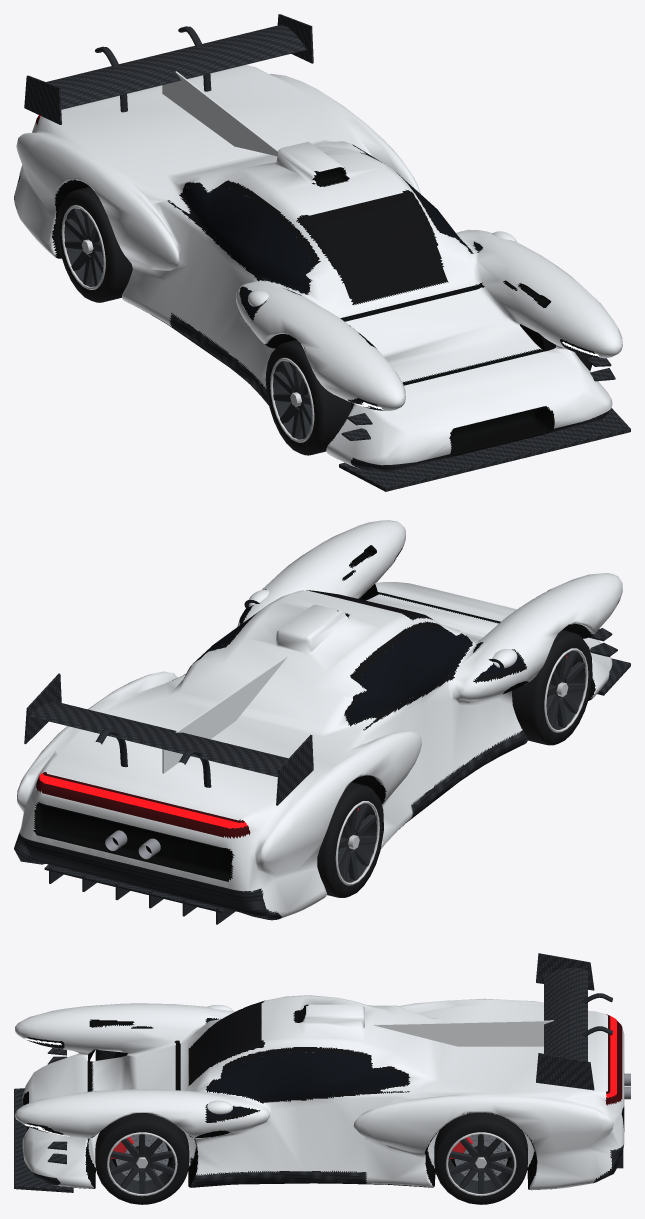
The model's file is optimized_gt_racecar_v4_LOD1.glb.
3 renders of one model, top to bottom at view 1: azimuth 30°, elevation 25°; view 2: azimuth 150°, elevation 25°; view 3: azimuth 270°, elevation 25°, orthographic. The views are drawn at different scales.
Visible parts, largest first — view 1: Body_Paint, Window_Trim, GT_Rear_Wing, Body_Glass, Intakes_And_Vents, Front_Canard_R, Wheel_FR_Tyre_Mesh, Wheel_RR_Tyre_Mesh, Shark_Fin, Body_Carbon, Wheel_RR_Rim_Mesh, Wheel_FR_Rim_Mesh (+2 smaller); view 2: Body_Paint, GT_Rear_Wing, Intakes_And_Vents, Body_Carbon, Body_Glass, Wheel_FR_Tyre_Mesh, Taillight_Lenses, Wheel_RR_Tyre_Mesh, Window_Trim, Front_Canard_R, Shark_Fin, Wheel_FR_Rim_Mesh (+4 smaller); view 3: Body_Paint, Body_Glass, GT_Rear_Wing, Window_Trim, Wheel_RL_Tyre_Mesh, Wheel_FL_Tyre_Mesh, Shark_Fin, Intakes_And_Vents, Body_Carbon, Wheel_FL_Rim_Mesh, Wheel_RL_Rim_Mesh, Front_Canard_R (+6 smaller).
Boxes of the visible parts, left/top/right/bottom form: Body_Paint: left=14, top=65, right=622, bottom=468; Window_Trim: left=167, top=144, right=482, bottom=321; GT_Rear_Wing: left=24, top=14, right=313, bottom=124; Body_Glass: left=183, top=148, right=481, bottom=314; Intakes_And_Vents: left=52, top=167, right=554, bottom=456; Front_Canard_R: left=339, top=357, right=630, bottom=491; Wheel_FR_Tyre_Mesh: left=265, top=340, right=351, bottom=455; Wheel_RR_Tyre_Mesh: left=57, top=187, right=131, bottom=302; Shark_Fin: left=162, top=71, right=278, bottom=156; Body_Carbon: left=14, top=174, right=609, bottom=472; Wheel_RR_Rim_Mesh: left=64, top=208, right=103, bottom=286; Wheel_FR_Rim_Mesh: left=273, top=361, right=312, bottom=439; Body_Paint: left=17, top=520, right=622, bottom=918; GT_Rear_Wing: left=24, top=673, right=313, bottom=805; Intakes_And_Vents: left=33, top=545, right=595, bottom=881; Body_Carbon: left=14, top=669, right=610, bottom=920; Body_Glass: left=197, top=605, right=522, bottom=722; Wheel_FR_Tyre_Mesh: left=511, top=630, right=592, bottom=745; Taillight_Lenses: left=36, top=772, right=250, bottom=838; Wheel_RR_Tyre_Mesh: left=317, top=782, right=383, bottom=897; Window_Trim: left=169, top=589, right=526, bottom=730; Front_Canard_R: left=44, top=628, right=630, bottom=924; Shark_Fin: left=162, top=656, right=287, bottom=773; Wheel_FR_Rim_Mesh: left=546, top=651, right=585, bottom=729; Body_Paint: left=14, top=995, right=624, bottom=1189; Body_Glass: left=209, top=1005, right=406, bottom=1118; GT_Rear_Wing: left=536, top=953, right=612, bottom=1090; Window_Trim: left=188, top=1000, right=409, bottom=1122; Wheel_RL_Tyre_Mesh: left=434, top=1112, right=527, bottom=1204; Wheel_FL_Tyre_Mesh: left=95, top=1113, right=189, bottom=1204; Shark_Fin: left=373, top=1020, right=553, bottom=1046; Intakes_And_Vents: left=22, top=1004, right=624, bottom=1190; Body_Carbon: left=30, top=1145, right=623, bottom=1186; Wheel_FL_Rim_Mesh: left=109, top=1134, right=175, bottom=1193; Wheel_RL_Rim_Mesh: left=448, top=1134, right=513, bottom=1193; Front_Canard_R: left=14, top=1048, right=623, bottom=1192.
Bounding box in the file's own units: 2.01 × 1.26 × 4.73.
16 materials, 2 textured.
